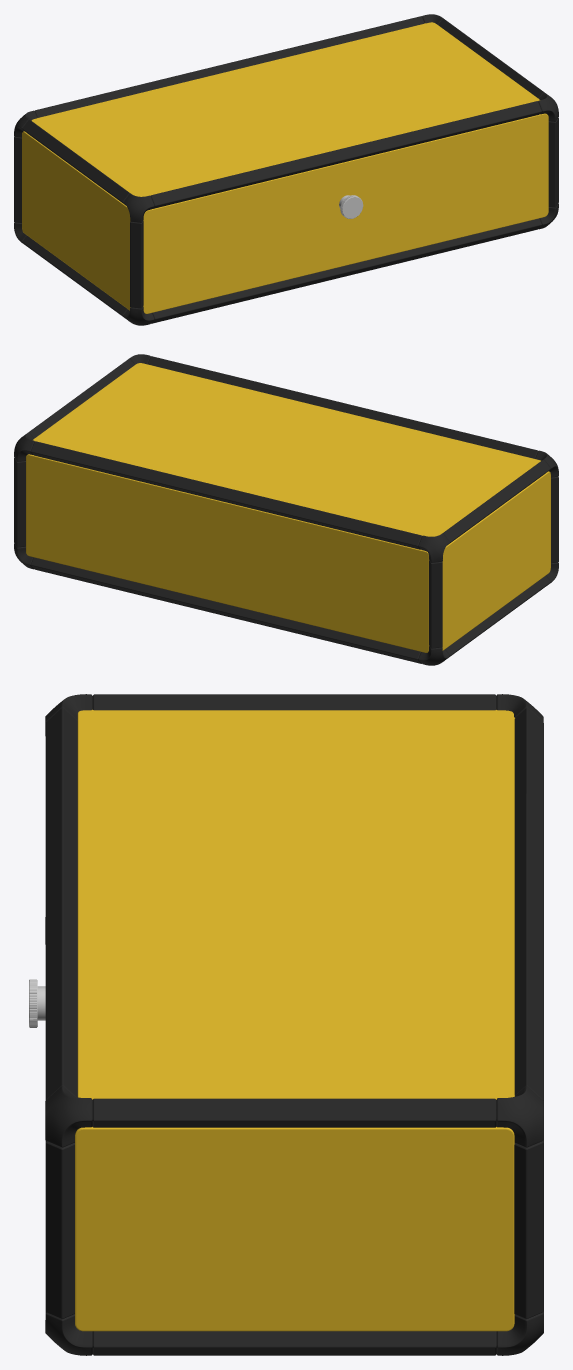
3 renders of one model, top to bottom at view 1: azimuth 30°, elevation 25°; view 2: azimuth 150°, elevation 25°; view 3: azimuth 270°, elevation 25°, orthographic. The views are drawn at different scales.
Parts seen in each view (by area): view 1: 729x329x154; view 2: 729x329x154; view 3: 729x329x154.
Boxes of the visible parts, x1,y1,x2,y2 form: 729x329x154: [14, 14, 558, 325]; 729x329x154: [14, 354, 558, 665]; 729x329x154: [29, 694, 543, 1355].
Bounding box in the file's own units: 0.8067 × 0.2316 × 0.4196.
